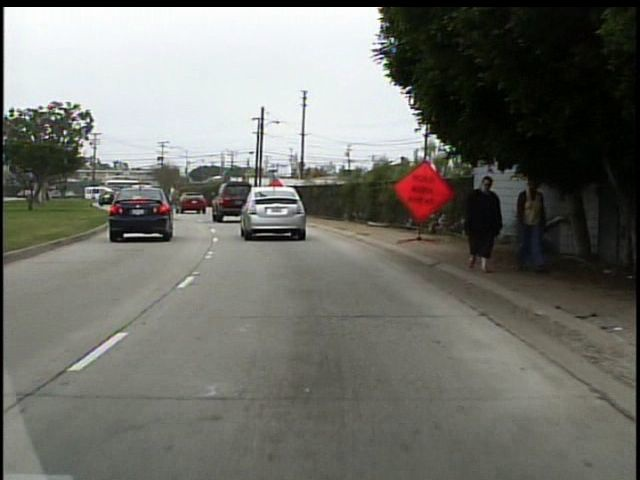person: (454, 171, 505, 278), (508, 167, 554, 281)
